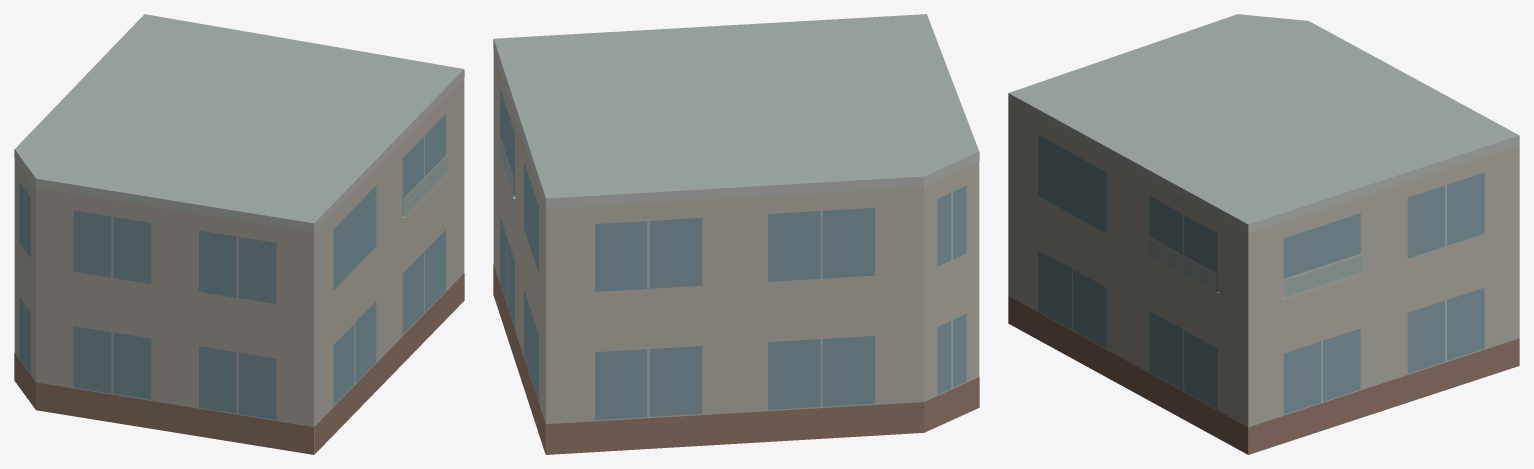
The model's file is survey-upis-32596473.glb.
3 views of the same model, side by side, from view 1: azimuth 30°, elevation 25°; view 2: azimuth 150°, elevation 25°; view 3: azimuth 270°, elevation 25° (orthographic). The views are drawn at different scales.
Visible parts, largest first — view 1: survey-upis-32596473.tmp; view 2: survey-upis-32596473.tmp; view 3: survey-upis-32596473.tmp.
Boxes of the visible parts, bbox=[...] form: survey-upis-32596473.tmp: bbox=[14, 14, 464, 454]; survey-upis-32596473.tmp: bbox=[493, 14, 979, 454]; survey-upis-32596473.tmp: bbox=[1008, 14, 1519, 454].
Bounding box in the file's own units: 11.96 × 6.1 × 12.28.
